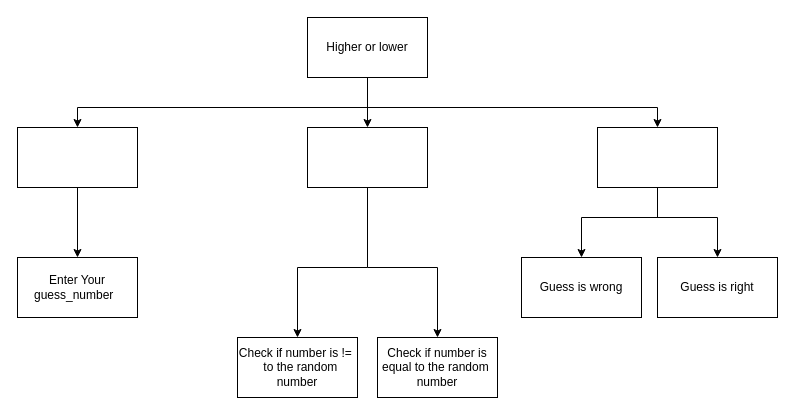
Some shapes in this 795 by 415 pixel diagram are drawn without their labels. Each missing label, with the box of its shape:
Input: (16, 126, 138, 188)
Output: (596, 126, 718, 188)
Process: (306, 126, 428, 188)
